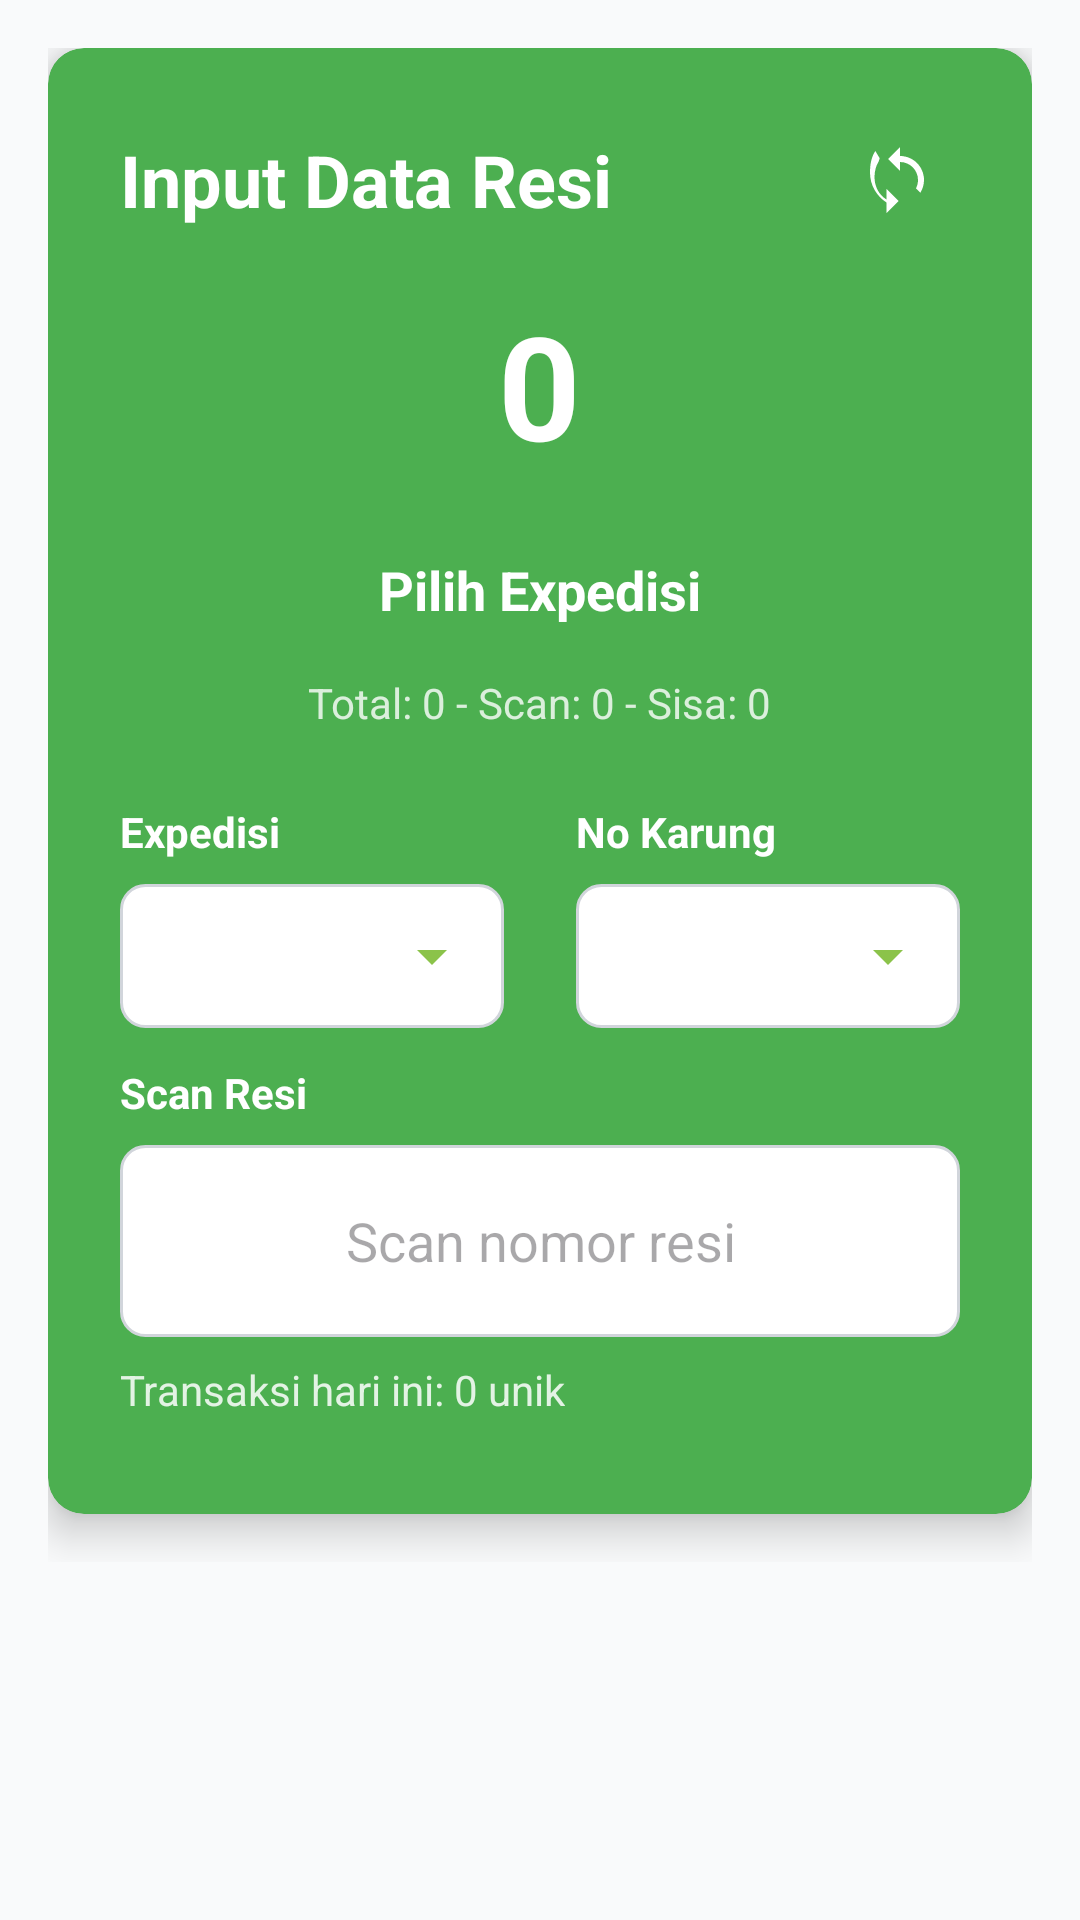

Screen size 1080 × 1920. Icon name, then its box in pixels as (x1, y1, x2, y2):
sync: (870, 147, 924, 213)
